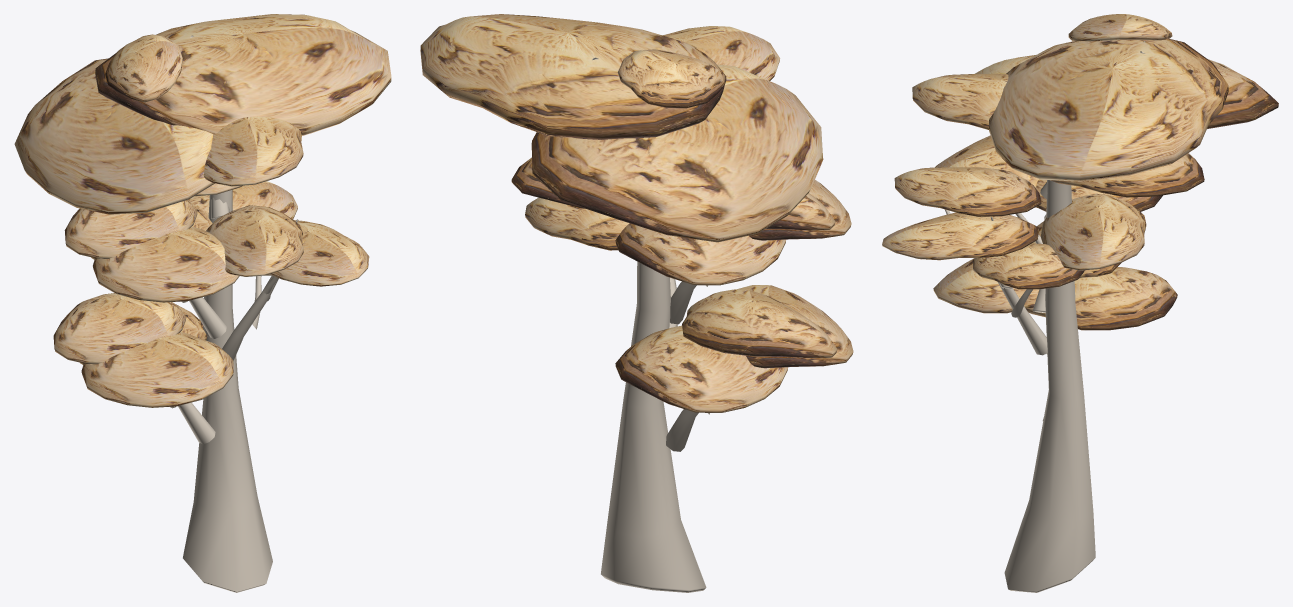
File: f_mushroom_alllevels_unk.fbx
3 views of the same model, side by side, from view 1: azimuth 30°, elevation 25°; view 2: azimuth 150°, elevation 25°; view 3: azimuth 270°, elevation 25° (orthographic). The views are drawn at different scales.
Visible parts, largest first — view 1: mushrooms; view 2: mushrooms; view 3: mushrooms.
Boxes of the visible parts, left/top/right/bottom form: mushrooms: left=14, top=14, right=391, bottom=592; mushrooms: left=420, top=14, right=853, bottom=592; mushrooms: left=882, top=14, right=1278, bottom=592.
Bounding box in the file's own units: 970 × 1406 × 928.
3 materials, 1 textured.
